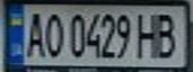0: (66, 10, 84, 58)
2: (100, 10, 118, 60)
4: (84, 10, 103, 60)
9: (115, 10, 136, 60)
A: (21, 8, 48, 59)
B: (151, 9, 184, 60)
H: (133, 10, 163, 60)
O: (42, 9, 66, 58)
